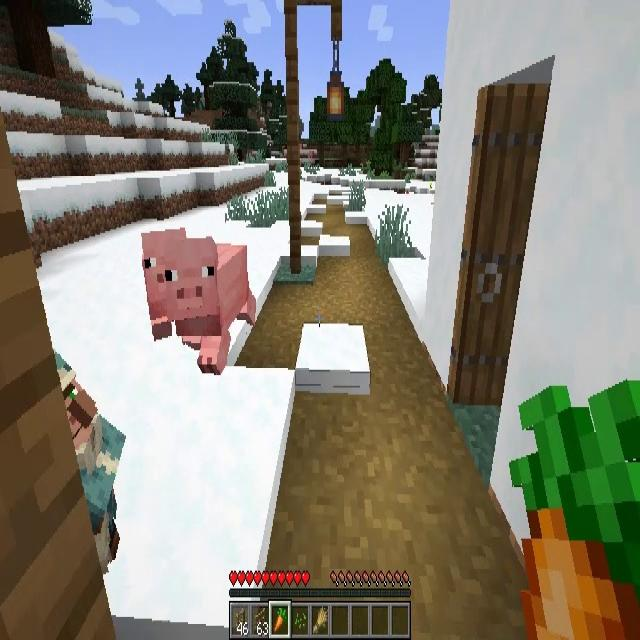pig: (167, 237, 256, 375), (142, 228, 187, 342)
